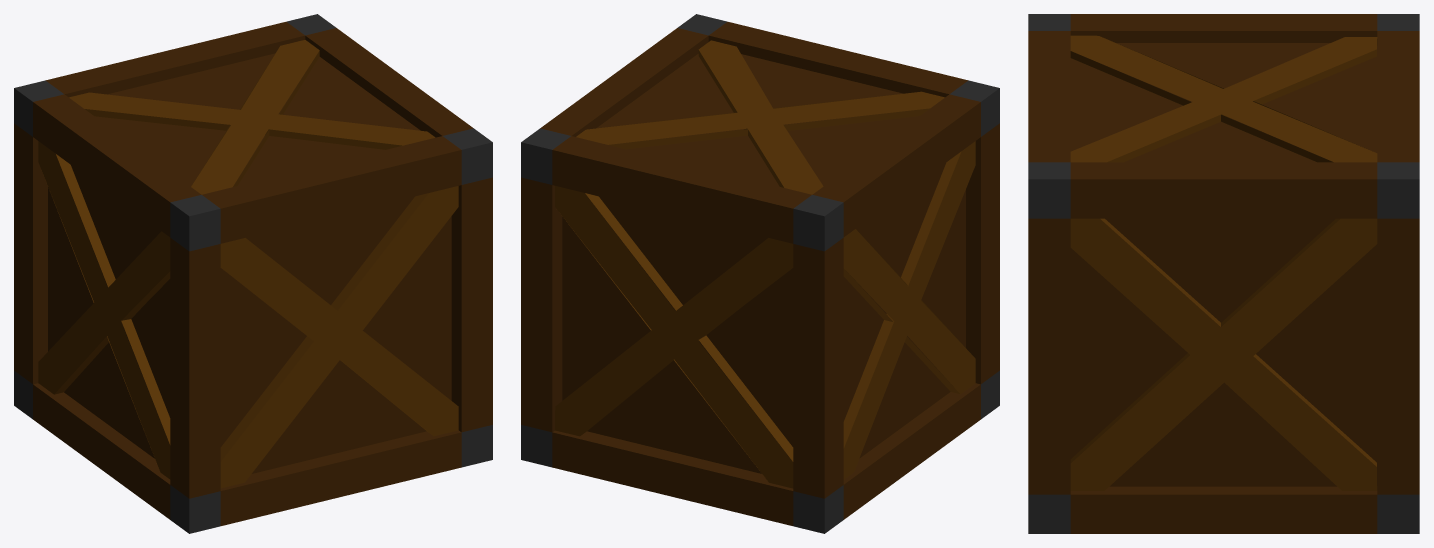
File: crate.fbx
3 views of the same model, side by side, from view 1: azimuth 30°, elevation 25°; view 2: azimuth 150°, elevation 25°; view 3: azimuth 270°, elevation 25° (orthographic). The views are drawn at different scales.
Visible parts, largest first — view 1: crate; view 2: crate; view 3: crate.
Part boxes in pixels (box(x1,y1,x2,y2)): crate: box(14, 14, 492, 533); crate: box(521, 14, 999, 533); crate: box(1028, 14, 1419, 533).
Size of the model in its own units: 57.23 by 57.23 by 57.23.
